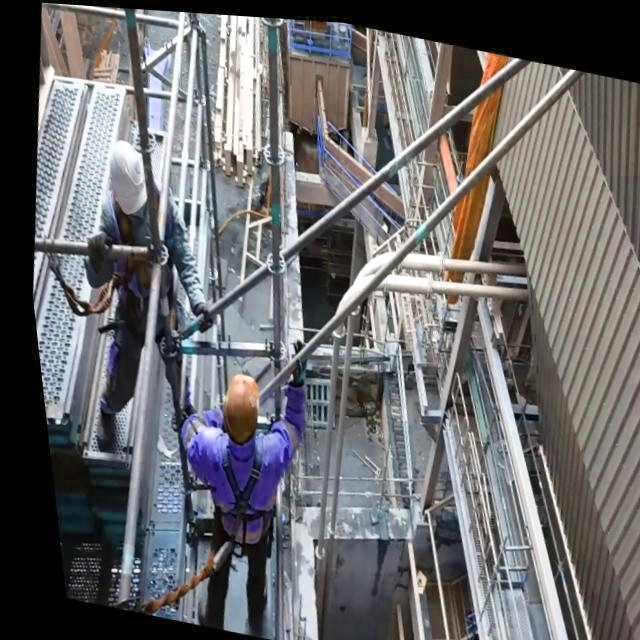safety belt: (95, 209, 212, 343), (183, 445, 279, 558)
